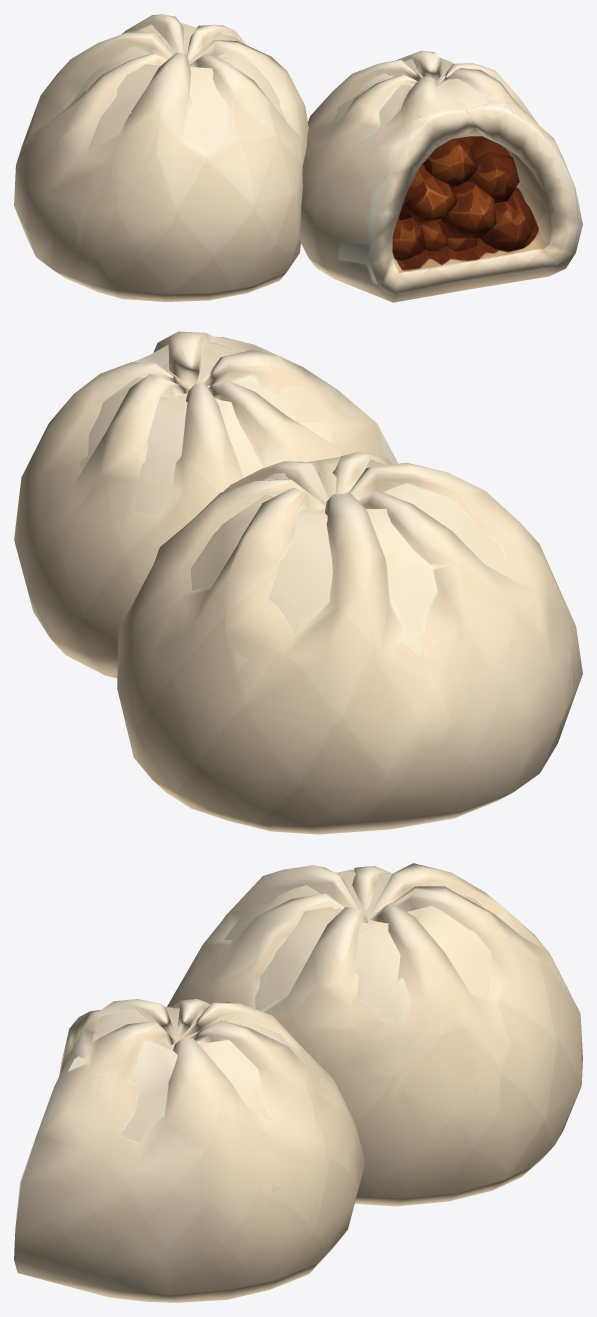
Rendered from manapua.glb.
3 renders of one model, top to bottom at view 1: azimuth 30°, elevation 25°; view 2: azimuth 150°, elevation 25°; view 3: azimuth 270°, elevation 25°, orthographic. The views are drawn at different scales.
Bounding box in the file's own units: 1 × 0.4502 × 0.9043.
1 material, 1 textured.
